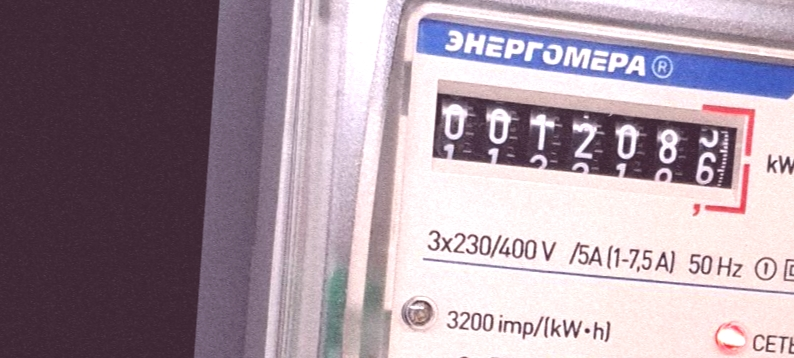0: (481, 103, 512, 146), (439, 97, 466, 141), (612, 120, 637, 160)
1: (526, 109, 551, 151)
2: (569, 119, 596, 160)
6: (689, 148, 716, 185)
8: (654, 124, 678, 165)
screen: (417, 64, 765, 227)
